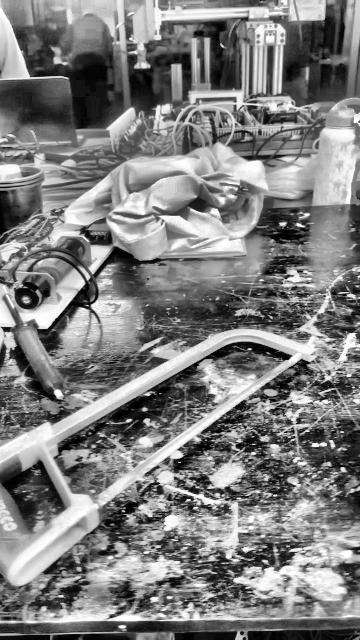pot: (0, 167, 46, 232)
